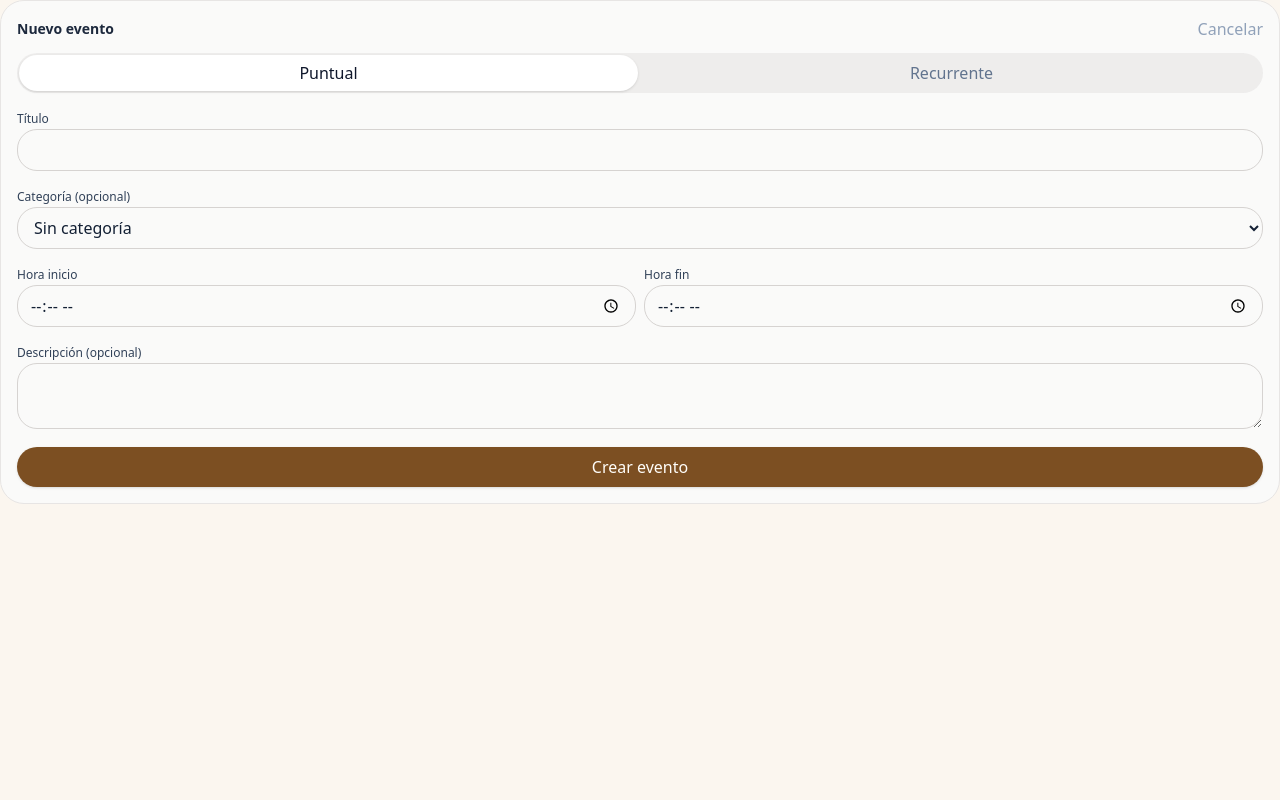
Scenario: DayCreateEventForm › shows recurring fields and category when switching to recurrente tab
Click the button "Recurrente" at (952, 73), box [642,55,1261,91]
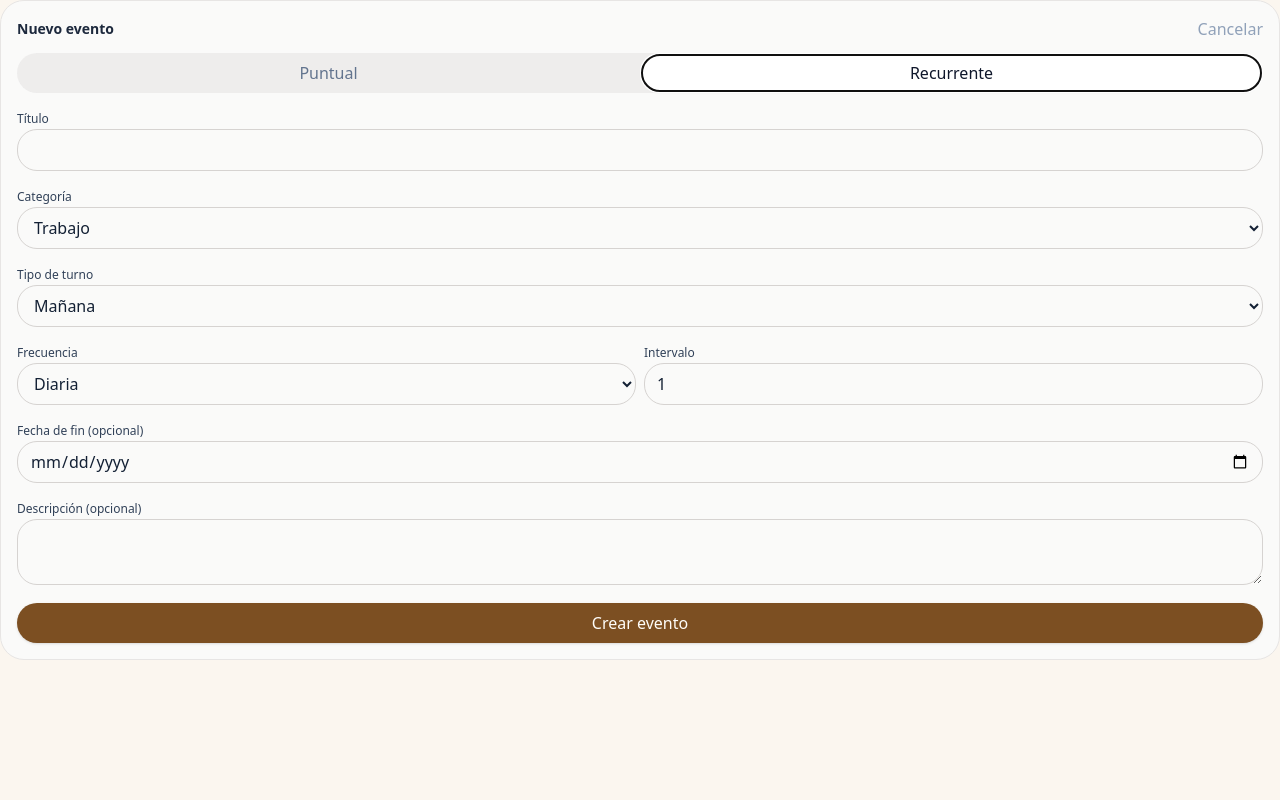
Expected: the dropdown labelled "Categoría" is shown, [17,207,1263,249]
Expected: the dropdown labelled "Frecuencia" is shown, [17,363,636,405]
